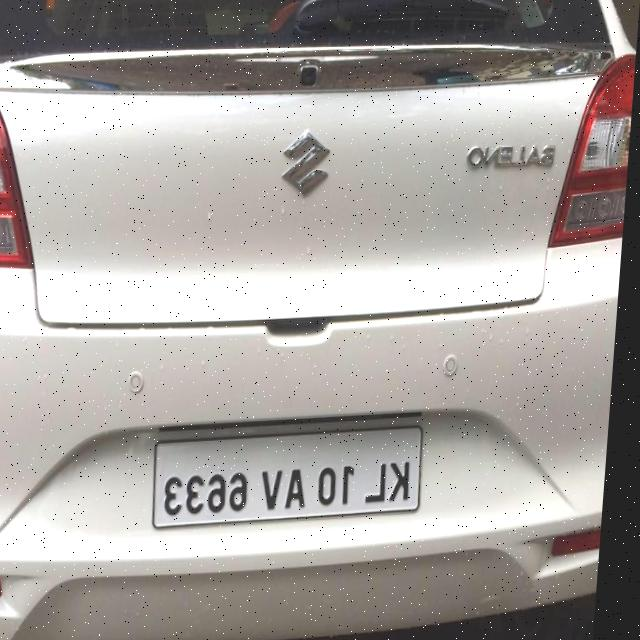plate: (157, 422, 434, 529)
